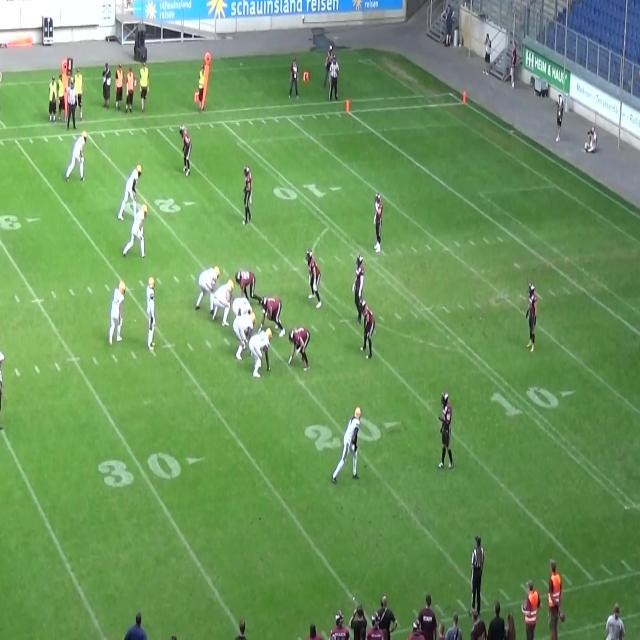1: (487, 386, 524, 419)
2: (300, 420, 343, 451)
3: (96, 456, 135, 491)
american-football-players: (332, 408, 363, 484), (122, 203, 148, 257), (118, 164, 141, 220), (522, 284, 540, 354), (358, 297, 378, 360), (249, 324, 272, 377), (438, 394, 453, 472), (233, 312, 257, 360), (195, 266, 220, 312), (258, 294, 284, 338), (284, 328, 312, 368), (304, 249, 322, 310), (66, 132, 86, 185), (111, 280, 127, 346), (213, 280, 235, 326), (236, 270, 261, 304), (240, 165, 253, 229), (146, 278, 157, 352), (372, 192, 384, 258), (352, 253, 364, 318), (180, 123, 193, 178), (232, 296, 253, 315)
